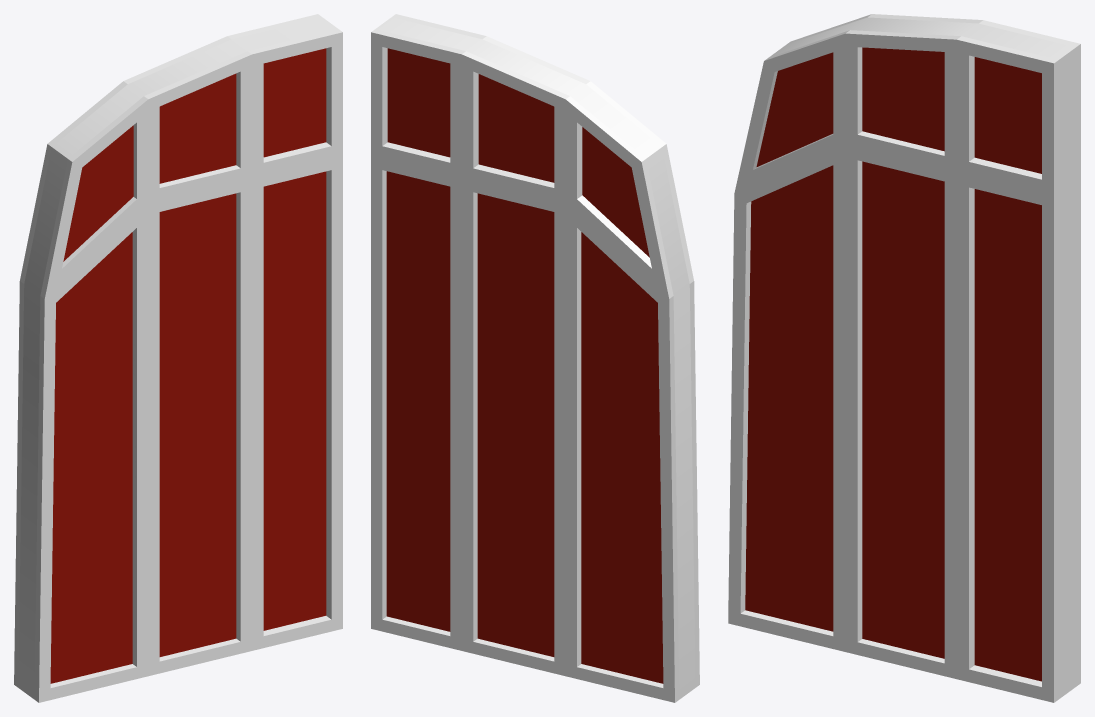
File: door.fbx
The picture shows the model from 3 angles, left to right: view 1: azimuth 30°, elevation 25°; view 2: azimuth 150°, elevation 25°; view 3: azimuth 330°, elevation 25°; orthographic projection. The views are drawn at different scales.
Visible parts, largest first — view 1: Box001; view 2: Box001; view 3: Box001.
Part boxes in pixels (x1,y1,x2,y2): Box001: (14,14,342,702); Box001: (371,14,699,702); Box001: (728,14,1080,702).
Bounding box in the file's own units: 31.5 × 59.06 × 4.47.
